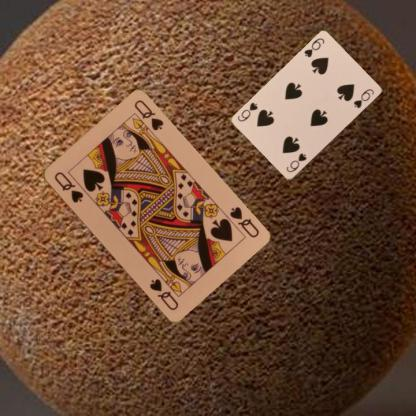6s: (301, 36, 326, 59), (284, 151, 308, 174)
Qs: (226, 204, 260, 240), (52, 169, 84, 204)
